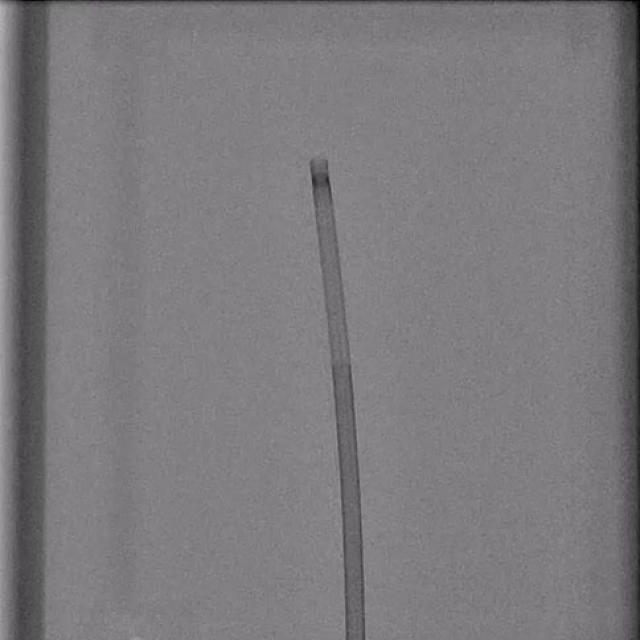bend: (330, 349, 352, 363)
entry: (344, 636, 366, 640)
marker: (311, 172, 330, 188)
tip: (309, 158, 328, 164)
